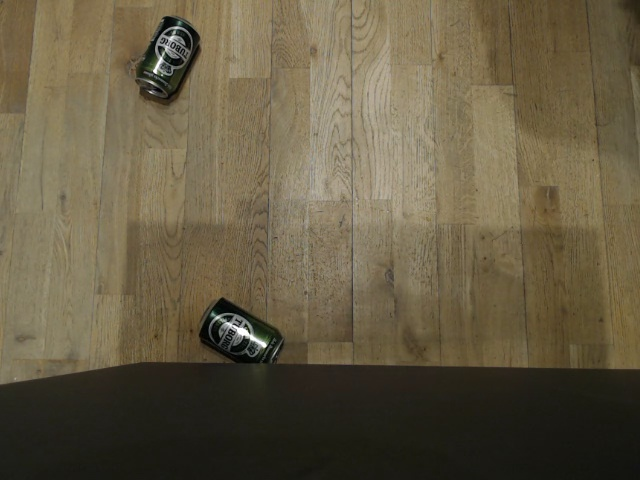beer: (195, 296, 287, 364), (132, 13, 202, 100)
